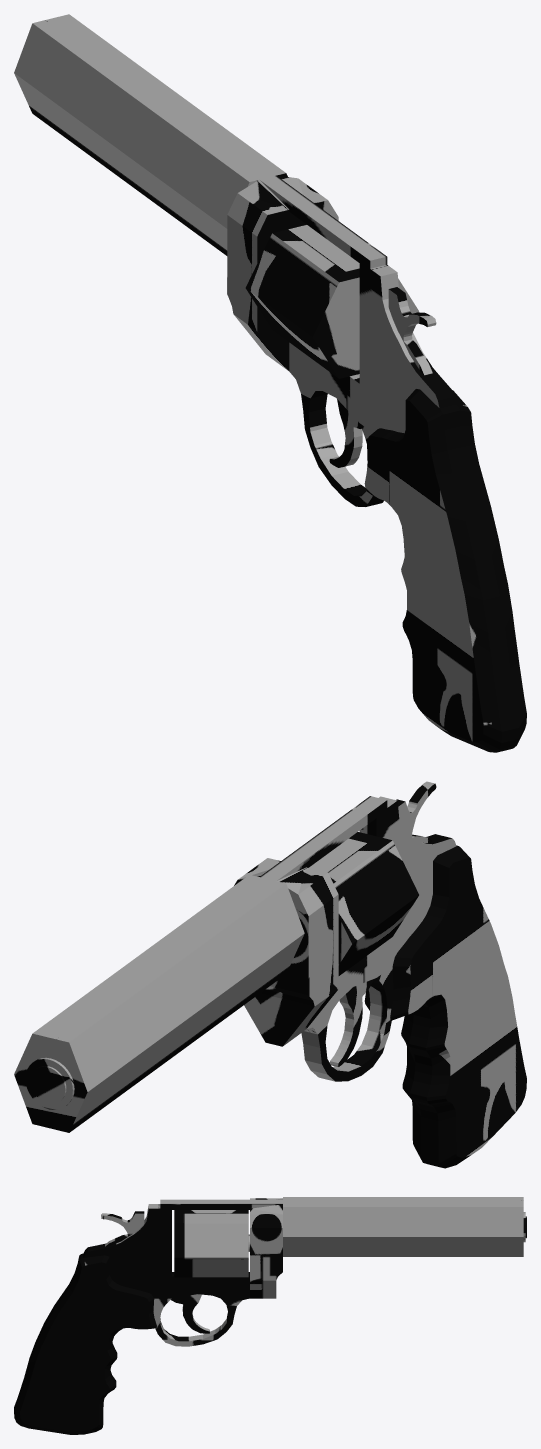
The model's file is RevolverModel2.fbx.
3 renders of one model, top to bottom at view 1: azimuth 30°, elevation 25°; view 2: azimuth 150°, elevation 25°; view 3: azimuth 270°, elevation 25°, orthographic. The views are drawn at different scales.
Visible parts, largest first — view 1: Frame, Chamber, Hammer, Trigger; view 2: Frame, Chamber, Trigger, Hammer; view 3: Frame, Chamber, Hammer, Trigger.
Part boxes in pixels (bbox=[...]): Frame: bbox=[14, 14, 526, 752]; Chamber: bbox=[245, 225, 418, 378]; Hammer: bbox=[388, 287, 436, 375]; Trigger: bbox=[329, 399, 362, 467]; Frame: bbox=[14, 796, 526, 1168]; Chamber: bbox=[309, 832, 418, 975]; Trigger: bbox=[329, 979, 374, 1066]; Hammer: bbox=[396, 781, 436, 843]; Frame: bbox=[14, 1197, 526, 1434]; Chamber: bbox=[174, 1210, 248, 1277]; Hammer: bbox=[101, 1211, 144, 1246]; Trigger: bbox=[171, 1294, 209, 1333].
Size of the model in its own units: 53.54 by 200 by 403.
1 material, 1 textured.
